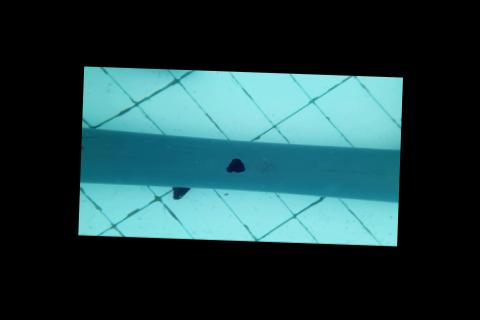kebocoran: (224, 157, 246, 174)
keretakan: (80, 134, 99, 151)
